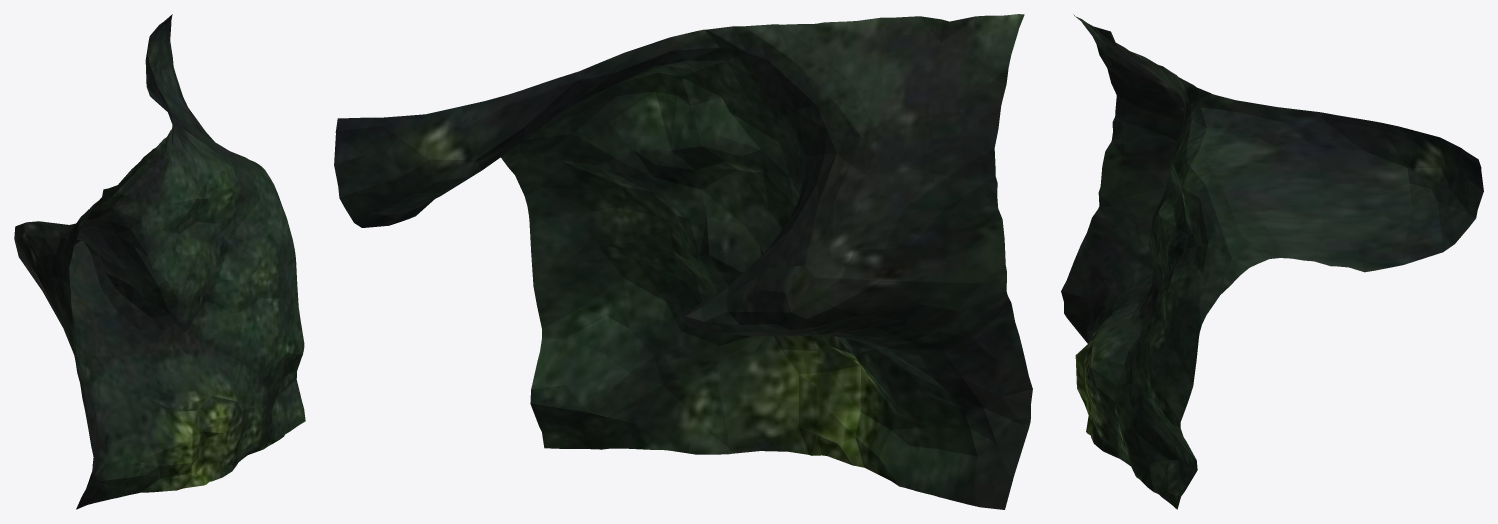
Rendered from tile_5_28_11_tex.obj.
3 views of the same model, side by side, from view 1: azimuth 30°, elevation 25°; view 2: azimuth 150°, elevation 25°; view 3: azimuth 270°, elevation 25° (orthographic). The views are drawn at different scales.
Visible parts, largest first — view 1: obj_0; view 2: obj_0; view 3: obj_0.
Boxes of the visible parts, x1,y1,x2,y2 form: obj_0: [14, 14, 305, 509]; obj_0: [334, 14, 1032, 509]; obj_0: [1061, 14, 1483, 509].
Size of the model in its own units: 5.01 by 5.64 by 6.16.
1 material, 1 textured.
